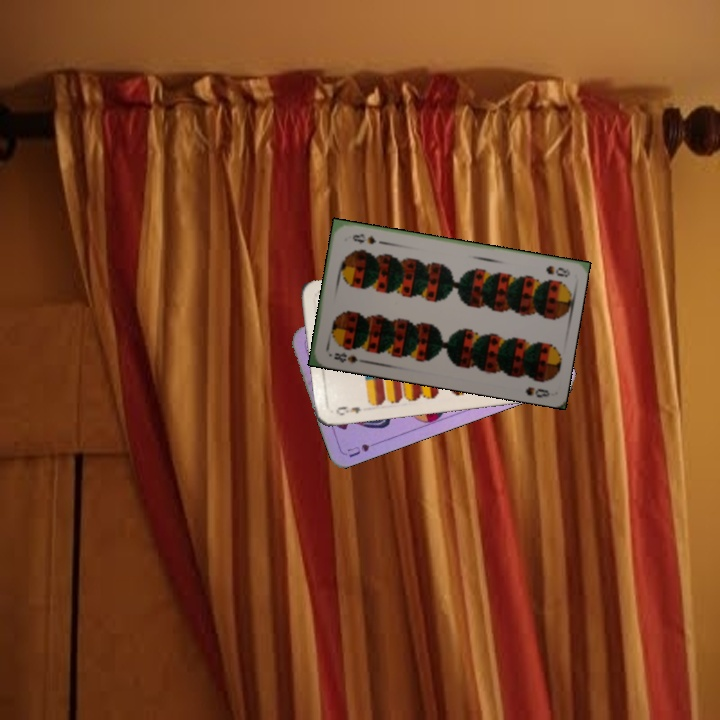E9: (332, 402, 363, 418)
S8: (330, 348, 366, 366), (542, 262, 572, 280)
SU: (343, 437, 383, 460)
